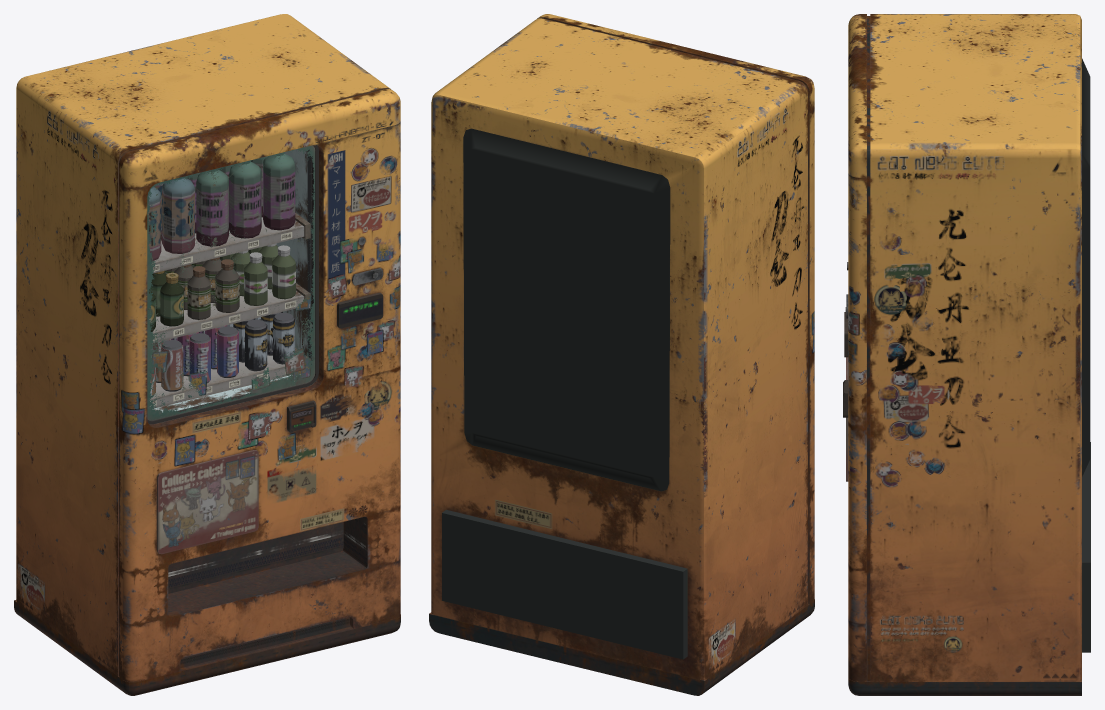
The model's file is Vending_Machine_01.fbx.
3 renders of one model, left to right at view 1: azimuth 30°, elevation 25°; view 2: azimuth 150°, elevation 25°; view 3: azimuth 270°, elevation 25°, orthographic. The views are drawn at different scales.
Visible parts, largest first — view 1: VendingMachine_01, VendingGlass_01; view 2: VendingMachine_01; view 3: VendingMachine_01.
Boxes of the visible parts, x1,y1,x2,y2 form: VendingMachine_01: (14, 14, 400, 695); VendingGlass_01: (147, 145, 315, 420); VendingMachine_01: (429, 14, 814, 695); VendingMachine_01: (843, 14, 1090, 695).
Size of the model in its own units: 95.18 by 178 by 72.47.
